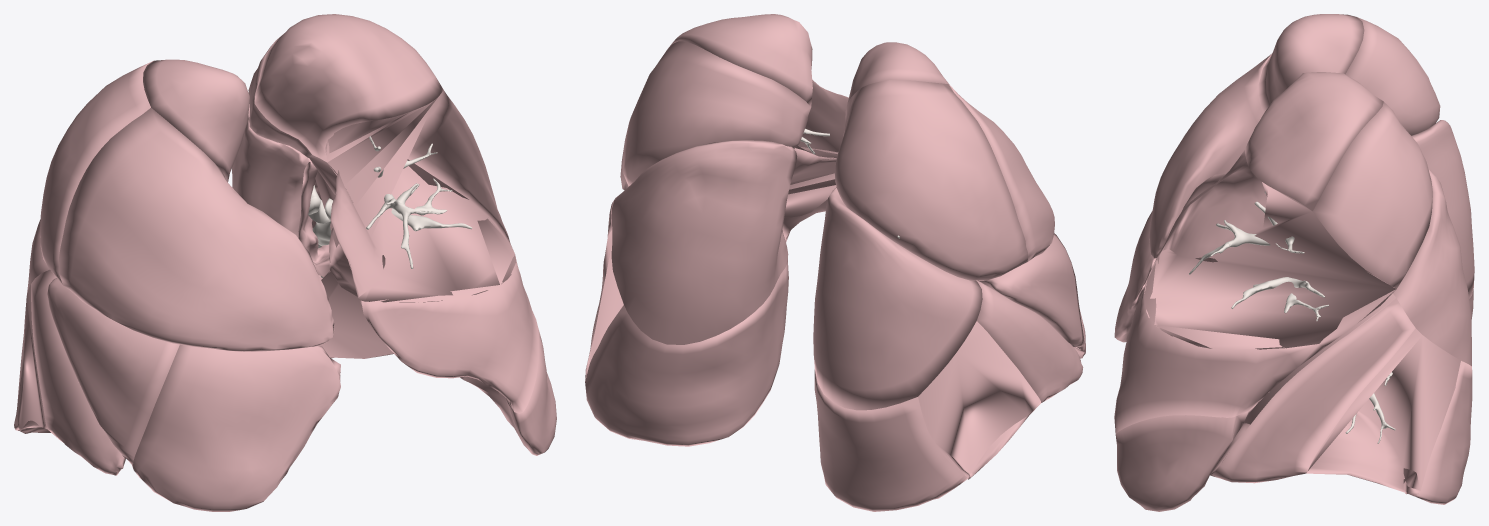
3 renders of one model, left to right at view 1: azimuth 30°, elevation 25°; view 2: azimuth 150°, elevation 25°; view 3: azimuth 270°, elevation 25°, orthographic. The views are drawn at different scales.
Visible parts, largest first — view 1: VH_M_right_anterior_bronchopulmonary_segment, VH_M_left_anterior_bronchopulmonary_segment, VH_M_right_medial_bronchopulmonary_segment, VH_M_left_apical_bronchopulmonary_segment, VH_M_left_lingula_superior_bronchopulmonary_segment, VH_M_right_lateral_bronchopulmonary_segment, VH_M_right_apical_bronchopulmonary_segment, VH_M_right_posterior_bronchopulmonary_segment, VH_M_right_anterior_basal_bronchopulmonary_segment, VH_M_left_superior_bronchopulmonary_segment, VH_M_left_lingula_inferior_bronchopulmonary_segment, VH_M_left_medial_basal_bronchopulmonary_segment (+5 smaller); view 2: VH_M_left_superior_bronchopulmonary_segment, VH_M_right_posterior_bronchopulmonary_segment, VH_M_right_superior_bronchopulmonary_segment, VH_M_left_posetrior_basal_bronchopulmonary_segment, VH_M_left_posterior_bronchopulmonary_segment, VH_M_right_posterior_basal_bronchopulmonary_segment, VH_M_right_lateral_basal_bronchopulmonary_segment, VH_M_left_apical_bronchopulmonary_segment, VH_M_right_anterior_basal_bronchopulmonary_segment, VH_M_right_lateral_bronchopulmonary_segment, VH_M_right_anterior_bronchopulmonary_segment, VH_M_left_lingula_superior_bronchopulmonary_segment (+3 smaller); view 3: VH_M_left_anterior_bronchopulmonary_segment, VH_M_left_lingula_superior_bronchopulmonary_segment, VH_M_left_anterior_basal_bronchopulmonary_segment, VH_M_left_posterior_bronchopulmonary_segment, VH_M_left_lateral_basal_bronchopulmonary_segment, VH_M_left_apical_bronchopulmonary_segment, VH_M_left_lingula_inferior_bronchopulmonary_segment, VH_M_right_anterior_bronchopulmonary_segment, VH_M_left_superior_bronchopulmonary_segment, VH_M_right_apical_bronchopulmonary_segment, VH_M_right_posterior_bronchopulmonary_segment, VH_M_left_posetrior_basal_bronchopulmonary_segment (+4 smaller).
Boxes of the visible parts, left/top/right/bottom form: VH_M_right_anterior_bronchopulmonary_segment: left=59, top=108, right=334, bottom=351; VH_M_left_anterior_bronchopulmonary_segment: left=325, top=89, right=516, bottom=302; VH_M_right_medial_bronchopulmonary_segment: left=128, top=344, right=340, bottom=511; VH_M_left_apical_bronchopulmonary_segment: left=254, top=14, right=442, bottom=162; VH_M_left_lingula_superior_bronchopulmonary_segment: left=359, top=159, right=538, bottom=413; VH_M_right_lateral_bronchopulmonary_segment: left=47, top=278, right=179, bottom=463; VH_M_right_apical_bronchopulmonary_segment: left=143, top=59, right=249, bottom=182; VH_M_right_posterior_bronchopulmonary_segment: left=40, top=61, right=152, bottom=284; VH_M_right_anterior_basal_bronchopulmonary_segment: left=31, top=269, right=125, bottom=475; VH_M_left_superior_bronchopulmonary_segment: left=232, top=104, right=311, bottom=237; VH_M_left_lingula_inferior_bronchopulmonary_segment: left=329, top=245, right=556, bottom=455; VH_M_left_medial_basal_bronchopulmonary_segment: left=319, top=271, right=393, bottom=358; VH_M_left_superior_bronchopulmonary_segment: left=611, top=140, right=797, bottom=344; VH_M_right_posterior_bronchopulmonary_segment: left=834, top=80, right=1027, bottom=280; VH_M_right_superior_bronchopulmonary_segment: left=813, top=187, right=982, bottom=410; VH_M_left_posetrior_basal_bronchopulmonary_segment: left=585, top=262, right=788, bottom=446; VH_M_left_posterior_bronchopulmonary_segment: left=622, top=41, right=810, bottom=186; VH_M_right_posterior_basal_bronchopulmonary_segment: left=814, top=369, right=967, bottom=511; VH_M_right_lateral_basal_bronchopulmonary_segment: left=918, top=321, right=1040, bottom=479; VH_M_left_apical_bronchopulmonary_segment: left=669, top=14, right=812, bottom=106; VH_M_right_anterior_basal_bronchopulmonary_segment: left=976, top=280, right=1083, bottom=402; VH_M_right_lateral_bronchopulmonary_segment: left=978, top=233, right=1084, bottom=348; VH_M_right_anterior_bronchopulmonary_segment: left=949, top=84, right=1054, bottom=261; VH_M_left_lingula_superior_bronchopulmonary_segment: left=622, top=147, right=838, bottom=239; VH_M_left_anterior_bronchopulmonary_segment: left=1144, top=149, right=1396, bottom=349; VH_M_left_lingula_superior_bronchopulmonary_segment: left=1114, top=256, right=1395, bottom=434; VH_M_left_anterior_basal_bronchopulmonary_segment: left=1210, top=298, right=1415, bottom=483; VH_M_left_posterior_bronchopulmonary_segment: left=1313, top=102, right=1432, bottom=288; VH_M_left_lateral_basal_bronchopulmonary_segment: left=1306, top=328, right=1460, bottom=496; VH_M_left_apical_bronchopulmonary_segment: left=1245, top=72, right=1383, bottom=211; VH_M_left_lingula_inferior_bronchopulmonary_segment: left=1115, top=403, right=1257, bottom=511; VH_M_right_anterior_bronchopulmonary_segment: left=1149, top=53, right=1272, bottom=258; VH_M_left_superior_bronchopulmonary_segment: left=1393, top=168, right=1471, bottom=366; VH_M_right_apical_bronchopulmonary_segment: left=1258, top=14, right=1364, bottom=113; VH_M_right_posterior_bronchopulmonary_segment: left=1345, top=17, right=1440, bottom=135; VH_M_left_posetrior_basal_bronchopulmonary_segment: left=1403, top=361, right=1472, bottom=504.
Bounding box in the file's own units: 0.2594 × 0.2291 × 0.1897.
